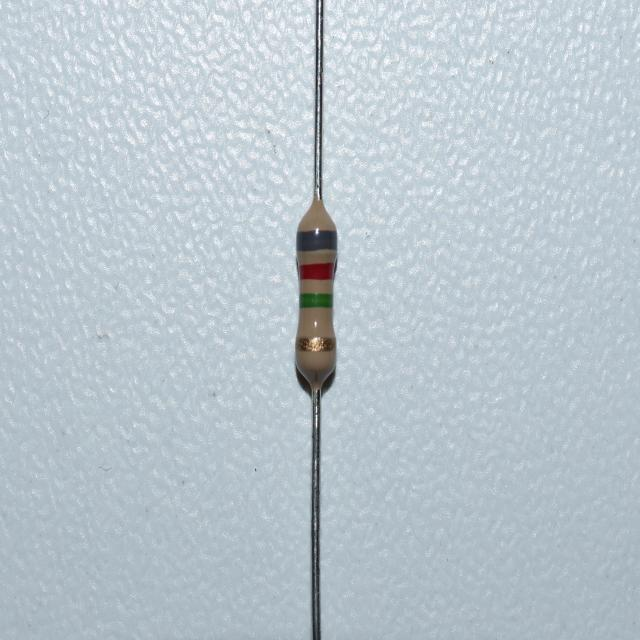resistor: (294, 210, 340, 379)
